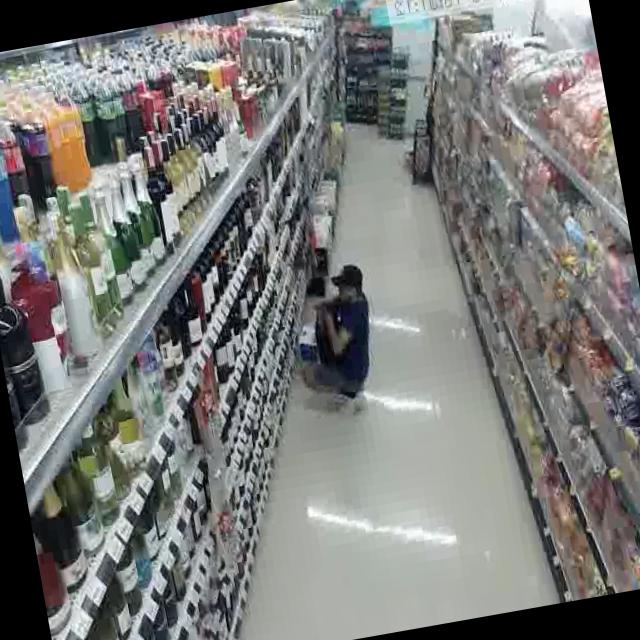shoplifting: (264, 252, 396, 439)
